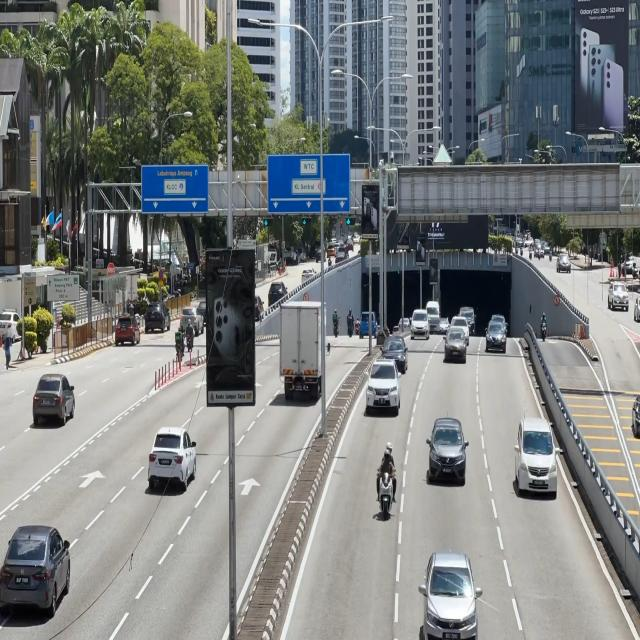Car: (4, 524, 74, 616), (276, 296, 330, 404), (419, 552, 479, 640), (512, 411, 559, 501), (146, 424, 198, 499), (429, 412, 468, 488), (32, 376, 78, 431), (364, 356, 403, 418), (380, 333, 410, 374), (142, 295, 170, 337), (112, 309, 140, 347), (444, 330, 468, 363), (486, 323, 509, 353), (179, 306, 204, 333), (410, 311, 430, 342)
